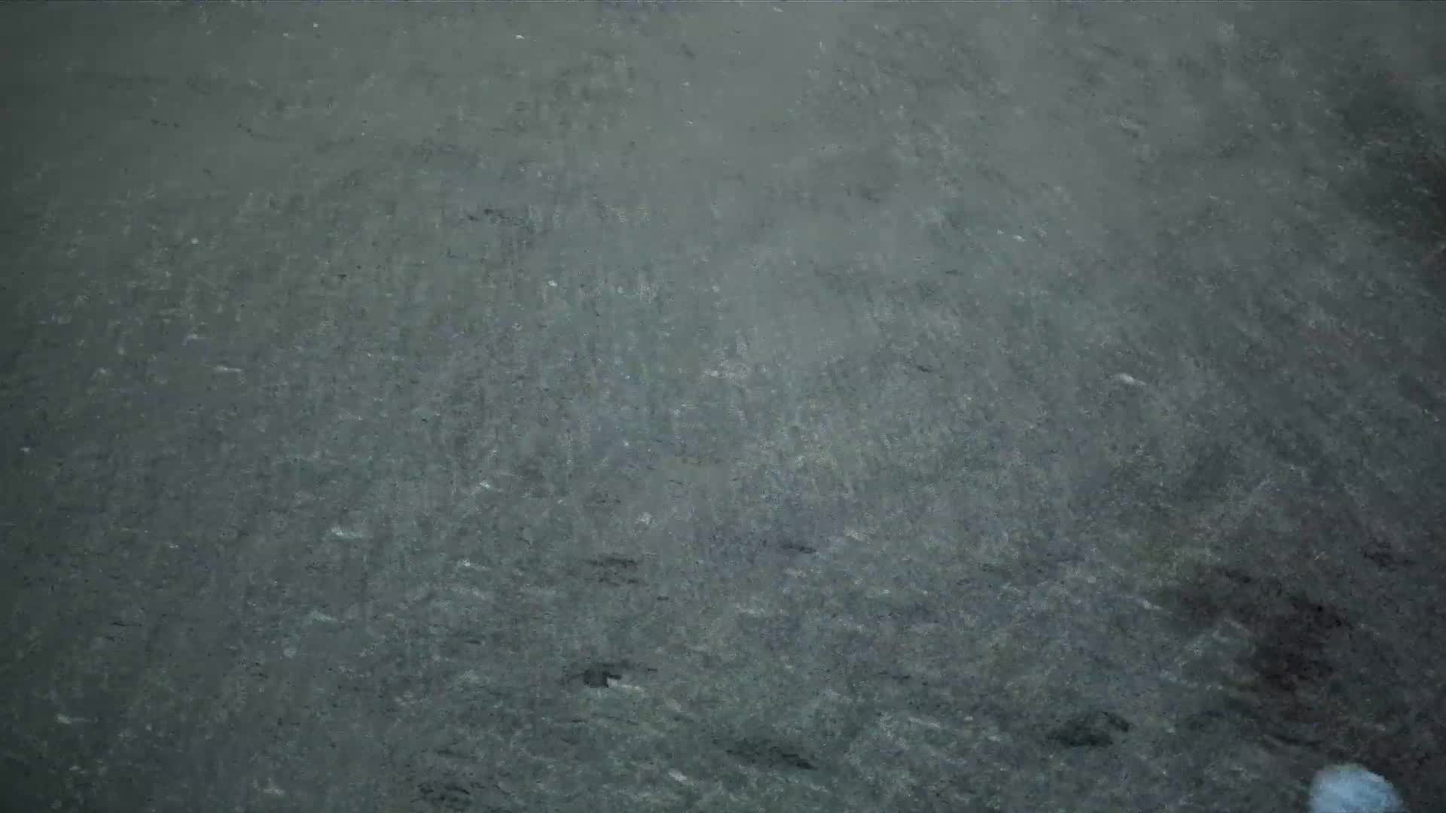Target: (1303, 758, 1418, 813)
